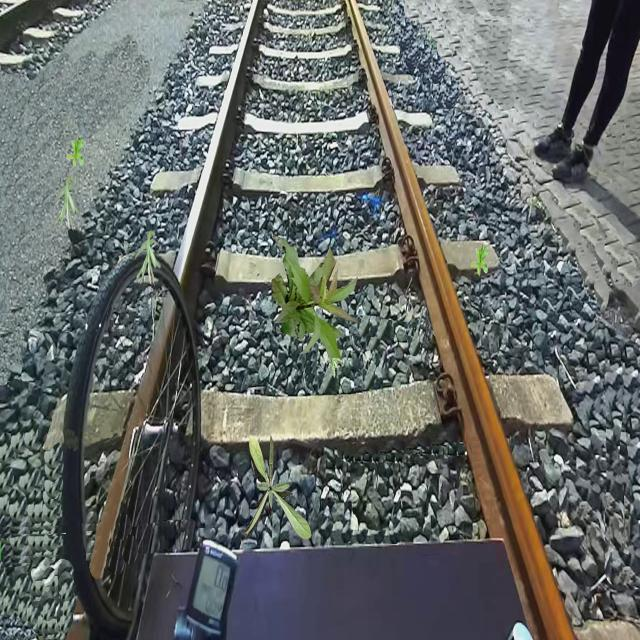Plant: (271, 235, 359, 365), (240, 434, 312, 542), (53, 175, 80, 232), (135, 230, 162, 286), (66, 137, 84, 169), (471, 244, 488, 276), (329, 357, 343, 378)
